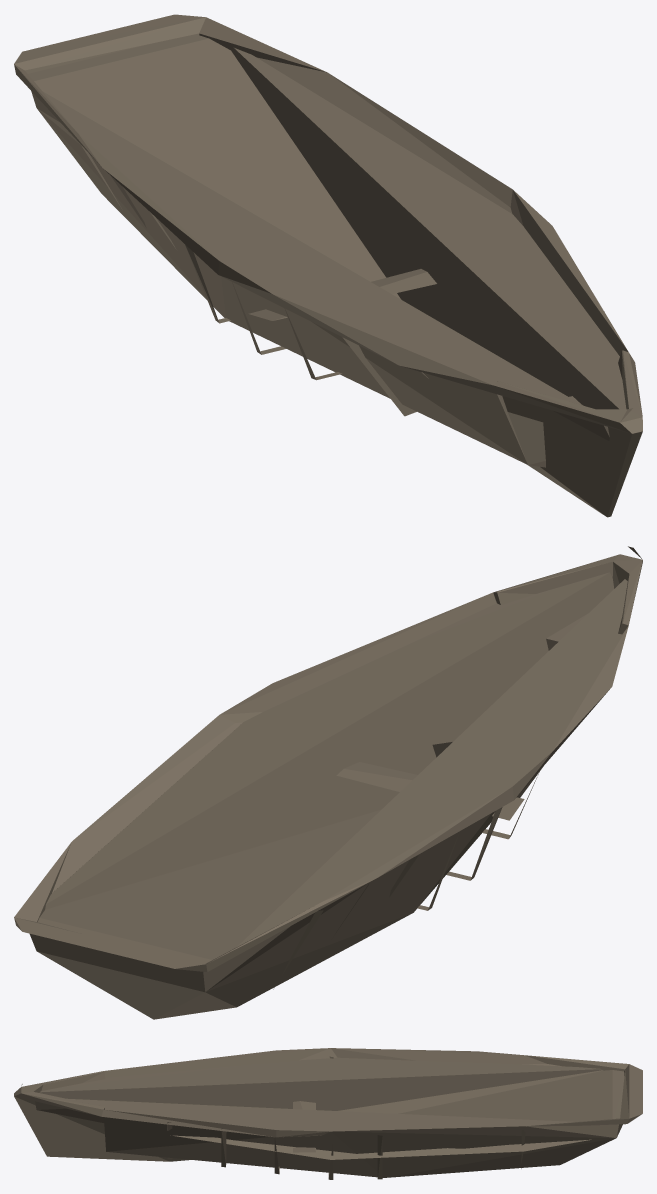
File: rowboat.lod2.glb
3 views of the same model, one above another, from view 1: azimuth 30°, elevation 25°; view 2: azimuth 150°, elevation 25°; view 3: azimuth 270°, elevation 25° (orthographic). The views are drawn at different scales.
Visible parts, largest first — view 1: Object_2; view 2: Object_2; view 3: Object_2.
Part boxes in pixels (x1,y1,x2,y2): Object_2: (14, 14, 642, 517); Object_2: (14, 546, 642, 1019); Object_2: (14, 1048, 642, 1179).
Size of the model in its own units: 1.31 by 0.5689 by 4.16.
